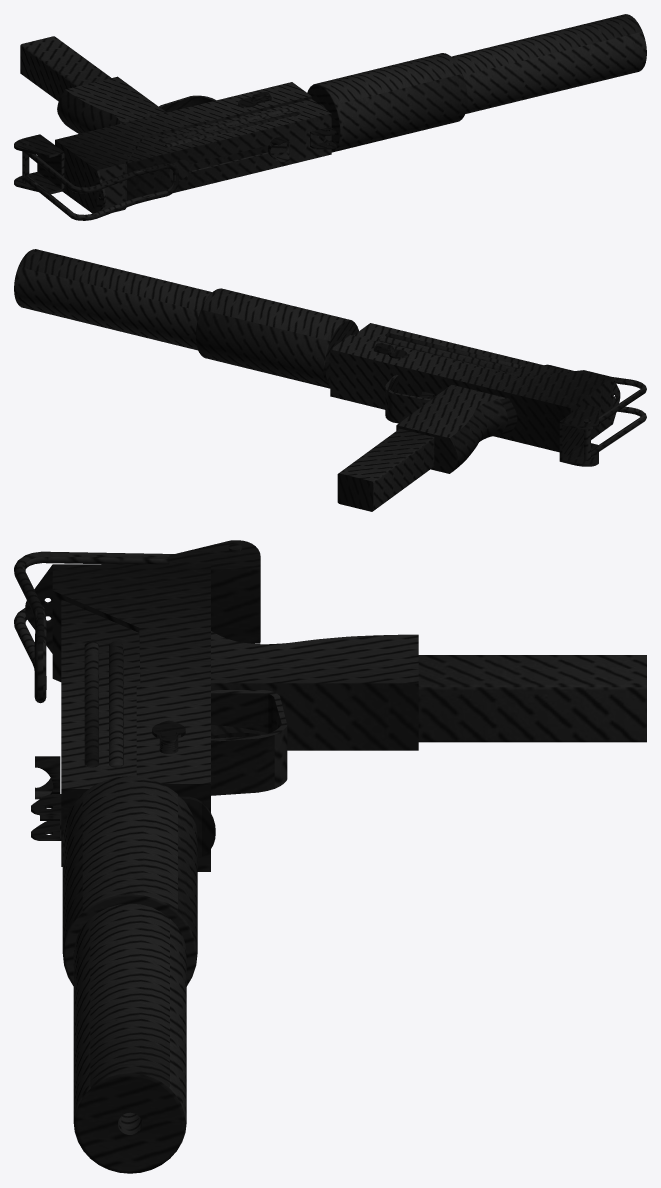
File: Mac-10_World.dae
3 views of the same model, one above another, from view 1: azimuth 30°, elevation 25°; view 2: azimuth 150°, elevation 25°; view 3: azimuth 270°, elevation 25° (orthographic). The views are drawn at different scales.
Parts seen in each view (by area): view 1: Mac-10, Magazine, Charging Handle; view 2: Mac-10, Magazine; view 3: Mac-10, Magazine.
Part boxes in pixels (x1,y1,x2,y2): Mac-10: (14, 14, 646, 220); Magazine: (20, 36, 111, 101); Charging Handle: (268, 137, 289, 162); Mac-10: (14, 249, 646, 473); Magazine: (337, 428, 434, 511); Mac-10: (14, 540, 418, 1173); Magazine: (418, 655, 646, 742).
Size of the model in its own units: 0.5734 by 0.2808 by 0.0598.
1 material, 1 textured.
